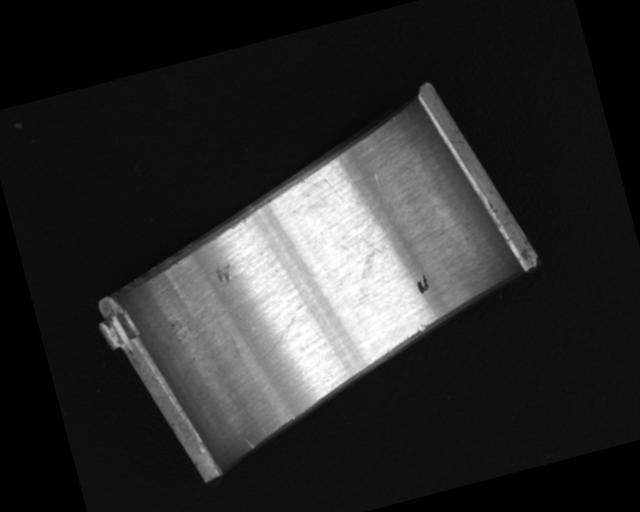blot: (342, 223, 398, 286), (413, 272, 431, 297)
bruise: (212, 260, 234, 285), (416, 323, 426, 333)
nick: (252, 300, 315, 357), (242, 436, 255, 451)
